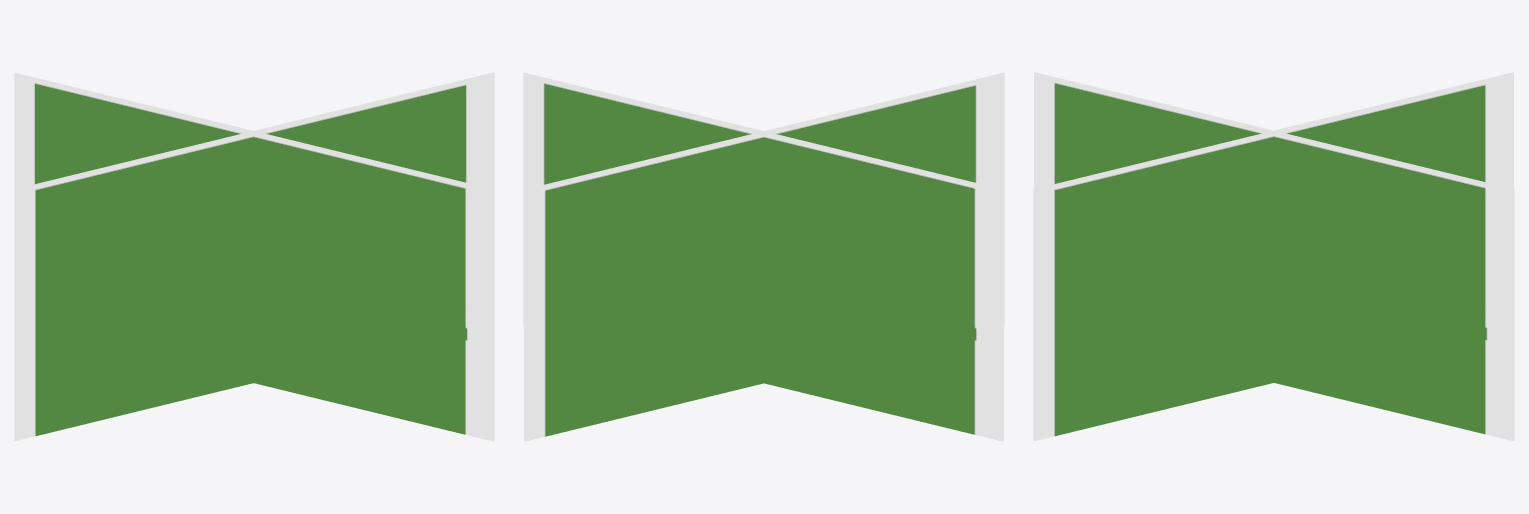
File: Grass_06-1.glb
3 renders of one model, left to right at view 1: azimuth 30°, elevation 25°; view 2: azimuth 150°, elevation 25°; view 3: azimuth 270°, elevation 25°, orthographic.
Visible parts, largest first — view 1: Grass_06-1_LOD0; view 2: Grass_06-1_LOD0; view 3: Grass_06-1_LOD0.
Boxes of the visible parts, x1,y1,x2,y2 form: Grass_06-1_LOD0: (14,72,494,441); Grass_06-1_LOD0: (523,72,1004,441); Grass_06-1_LOD0: (1033,72,1514,441).
Size of what is drawn, in the model's own units: 0.5621 by 0.2817 by 0.4879.
Materials: 1 (1 with a texture image).
